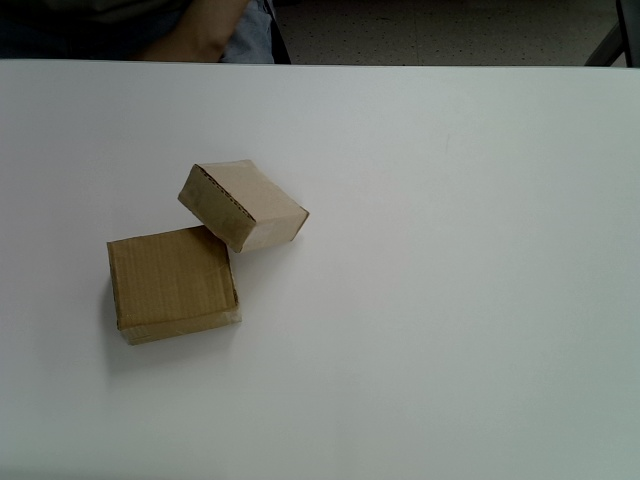normal: (106, 225, 242, 347), (177, 160, 310, 252)
